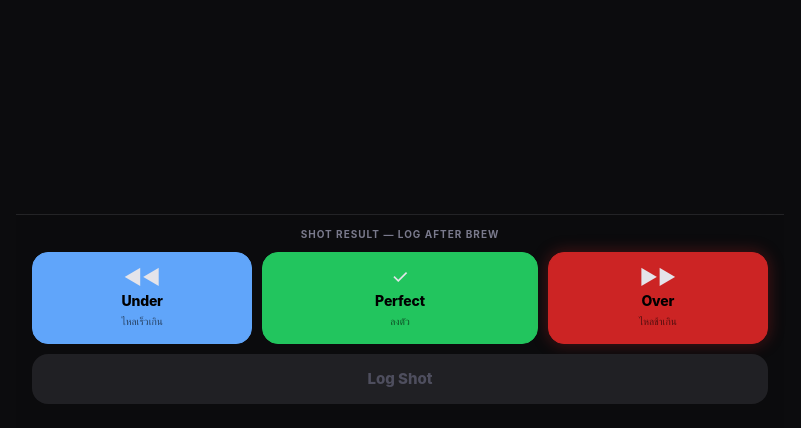
it: ShotFeedback — auto-calibration integration › shows CalibrationSuggestionCard after 2 consecutive under shots
Click the text "Under": (142, 300) x1=122 y1=290 x2=163 y2=310
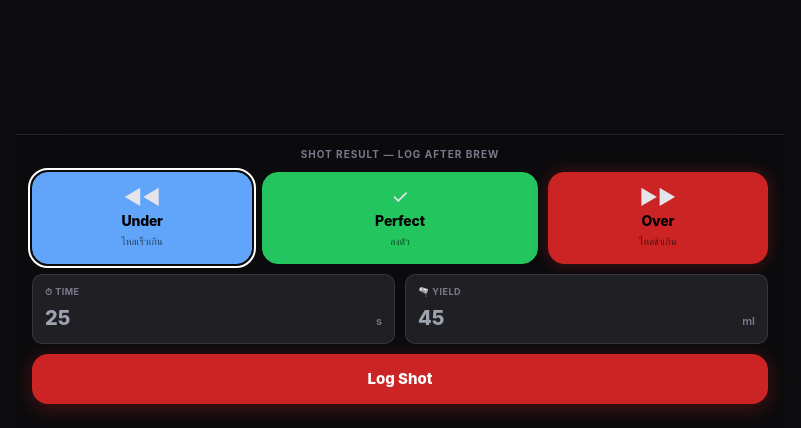
Click the button "Log Shot": (400, 379) x1=32 y1=354 x2=768 y2=404
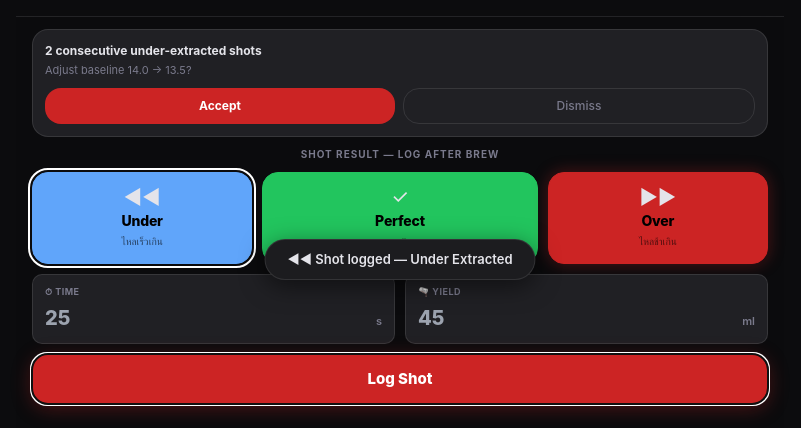
Now the text "2 consecutive under-extracted shots" is shown, box x1=45 y1=42 x2=262 y2=58
Now the text "Adjust baseline 14.0 → 13.5?" is shown, box x1=45 y1=62 x2=192 y2=76
